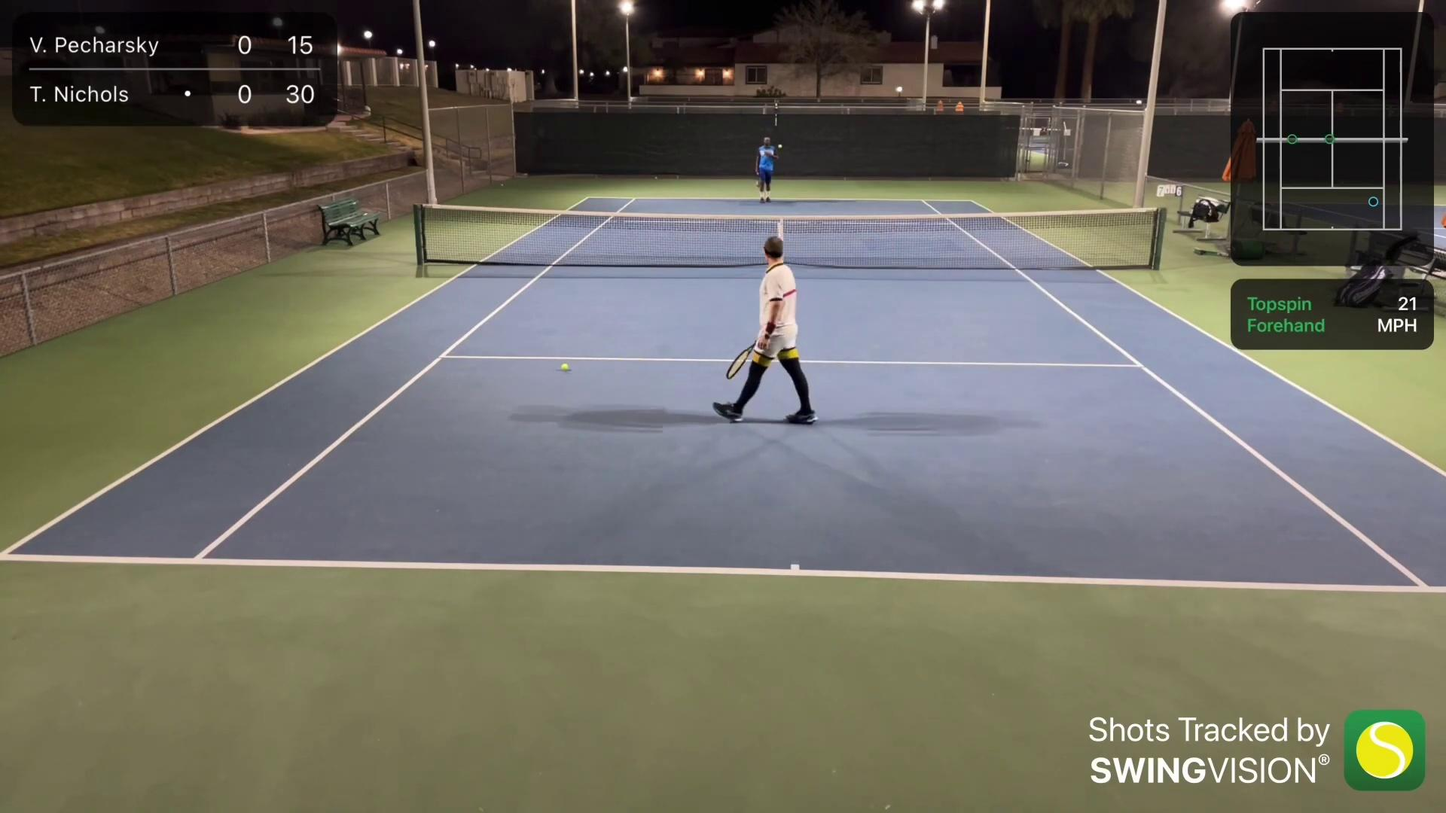ball: (558, 361, 570, 373), (777, 141, 784, 149)
